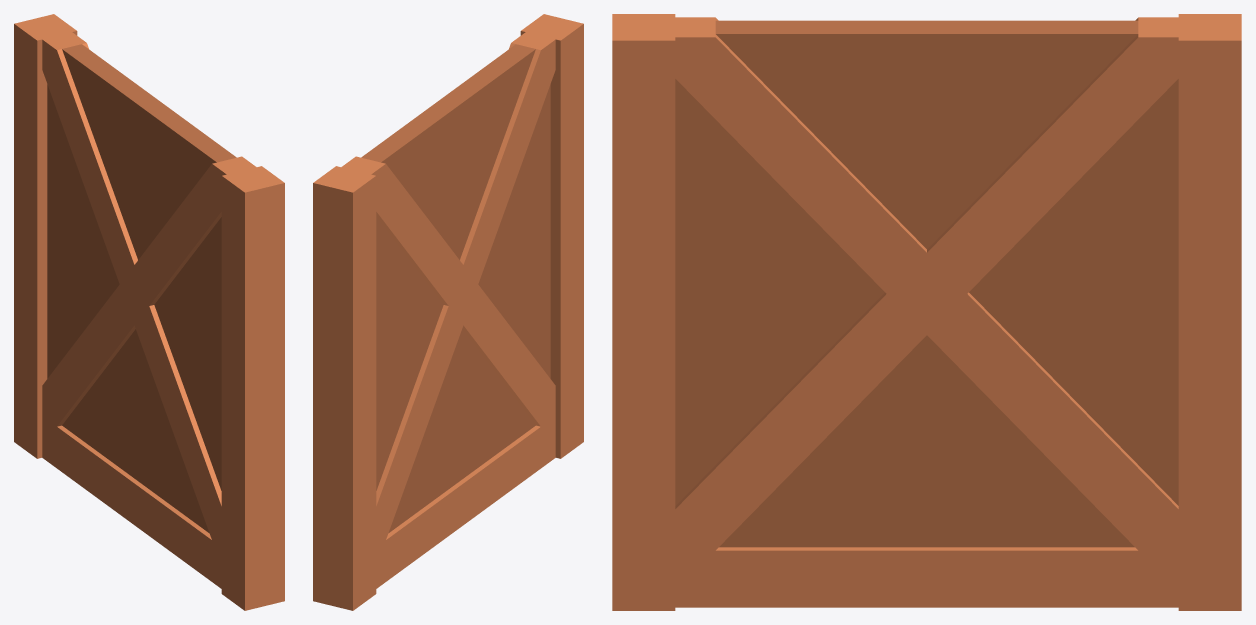
Rendered from wallWoodDetailCross.fbx.
3 views of the same model, side by side, from view 1: azimuth 30°, elevation 25°; view 2: azimuth 150°, elevation 25°; view 3: azimuth 270°, elevation 25° (orthographic). The views are drawn at different scales.
Parts seen in each view (by area): view 1: wallWoodDetailCross; view 2: wallWoodDetailCross; view 3: wallWoodDetailCross.
Part boxes in pixels (bbox=[...]): wallWoodDetailCross: bbox=[14, 14, 284, 610]; wallWoodDetailCross: bbox=[313, 14, 583, 610]; wallWoodDetailCross: bbox=[612, 14, 1241, 610].
Size of the model in its own units: 1 by 10 by 10.
